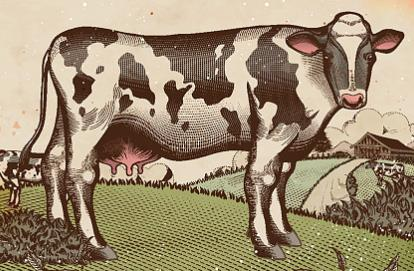cow: (19, 12, 404, 260)
